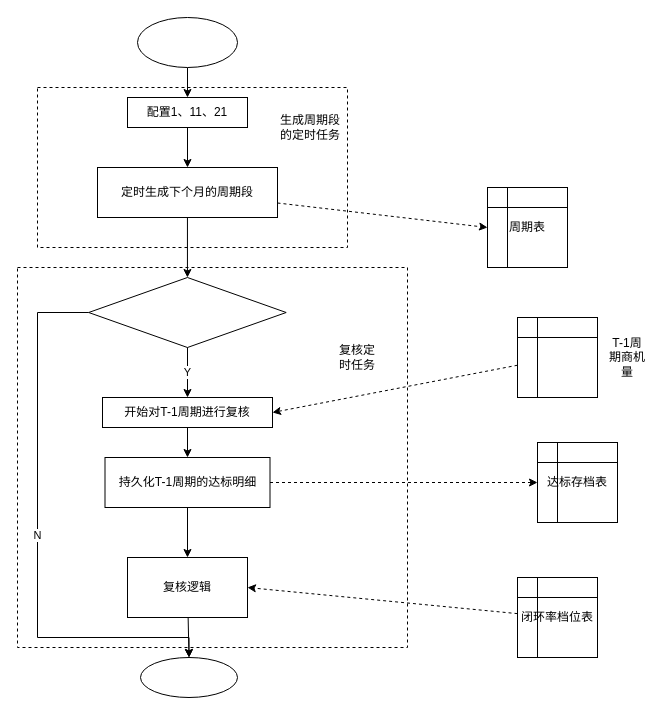
This 665x715 diagram has some shape labels left out. The shapes that lost their labels are listed below. From the top down, each one's box as (x1, y1, x2, y2) in pixels, then its label:
(136, 16, 238, 68): 开始
(88, 276, 286, 348): 任务启动日期是否为某个周期段的开始日期
(516, 316, 598, 398): BI
(140, 656, 238, 698): 结束
